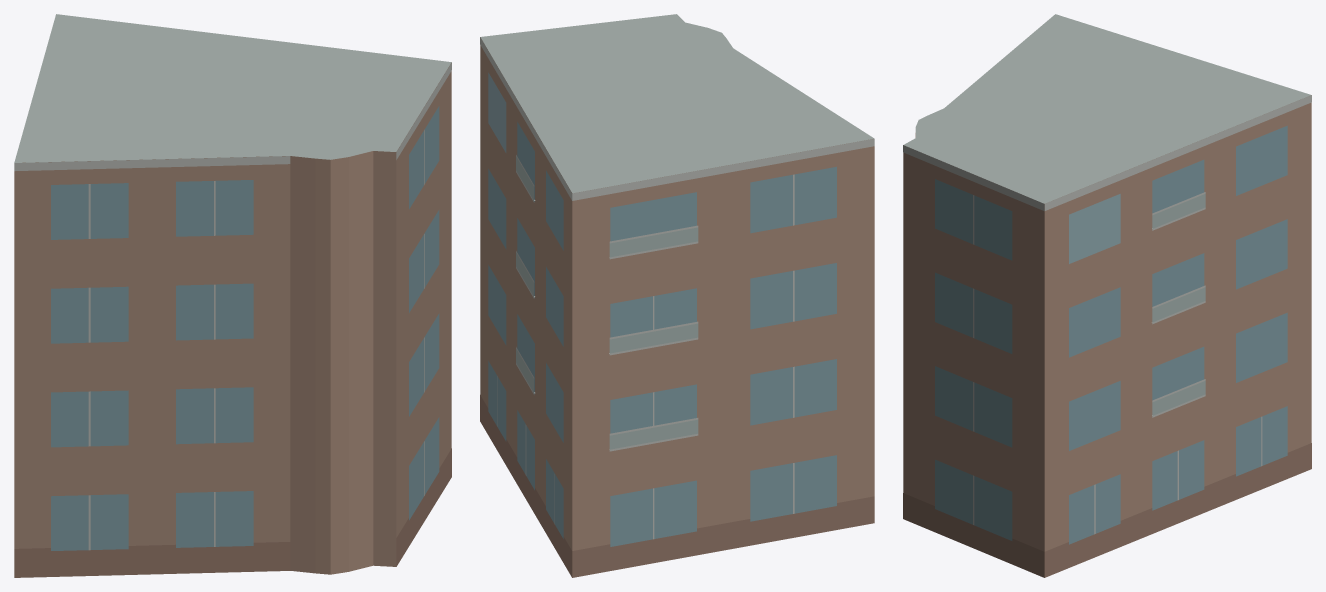
Rendered from survey-upis-32722874.glb.
The picture shows the model from 3 angles, left to right: view 1: azimuth 30°, elevation 25°; view 2: azimuth 150°, elevation 25°; view 3: azimuth 270°, elevation 25°; orthographic projection. The views are drawn at different scales.
Visible parts, largest first — view 1: survey-upis-32722874.tmp; view 2: survey-upis-32722874.tmp; view 3: survey-upis-32722874.tmp.
Boxes of the visible parts, bbox=[...] form: survey-upis-32722874.tmp: bbox=[14, 14, 451, 577]; survey-upis-32722874.tmp: bbox=[480, 14, 874, 577]; survey-upis-32722874.tmp: bbox=[903, 14, 1311, 577].
Bounding box in the file's own units: 13.45 × 12.35 × 12.23.
